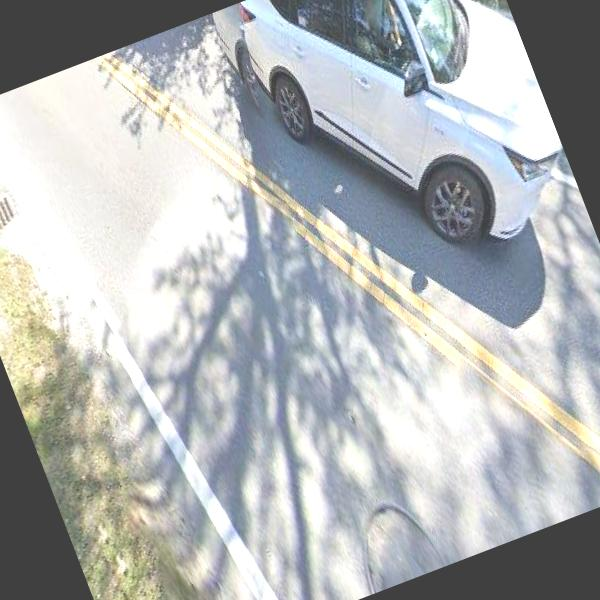manhole: (342, 482, 450, 594), (0, 183, 29, 251)
